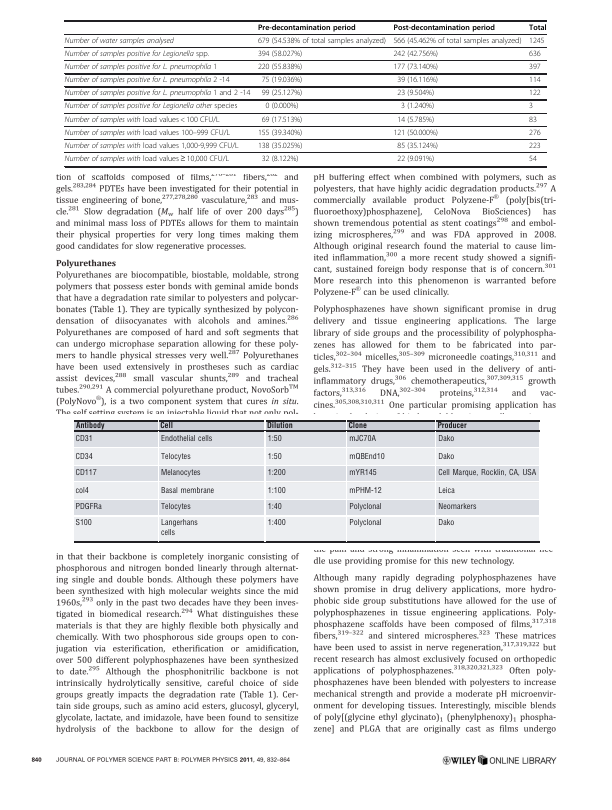borderless: (64, 19, 546, 166), (74, 419, 540, 541)
cell: (64, 141, 240, 151), (64, 89, 251, 98), (64, 128, 231, 138), (64, 75, 230, 85), (64, 154, 230, 164), (64, 102, 238, 111), (64, 62, 218, 72), (64, 49, 210, 59), (64, 115, 220, 124), (257, 36, 387, 46), (392, 36, 522, 46), (64, 36, 175, 46), (437, 468, 537, 478), (392, 23, 496, 32), (257, 23, 356, 32), (159, 518, 198, 538), (159, 486, 215, 495), (159, 434, 213, 443), (392, 49, 439, 59), (392, 62, 439, 72), (392, 128, 439, 138), (257, 49, 303, 59), (257, 62, 303, 72), (257, 128, 303, 138), (257, 141, 303, 151), (396, 75, 439, 85), (396, 141, 439, 151), (159, 468, 201, 478), (261, 75, 303, 85), (437, 502, 477, 512), (396, 154, 435, 164), (261, 154, 299, 164), (261, 89, 303, 98), (261, 115, 303, 124), (396, 89, 435, 98), (396, 115, 435, 124), (348, 502, 382, 512), (348, 518, 382, 528), (348, 452, 385, 461), (159, 502, 191, 512), (264, 102, 299, 111), (400, 102, 435, 111), (74, 421, 105, 431), (436, 421, 467, 431), (348, 486, 382, 495), (348, 468, 377, 478), (159, 452, 191, 461), (265, 421, 293, 431), (74, 502, 102, 512), (348, 434, 376, 443), (74, 468, 97, 478), (347, 421, 367, 431), (266, 468, 286, 478), (266, 518, 286, 528), (266, 486, 286, 495), (74, 518, 92, 528), (437, 518, 455, 528), (74, 434, 93, 443), (74, 452, 93, 461), (528, 23, 547, 32), (528, 36, 545, 46), (437, 434, 455, 443), (437, 452, 455, 461), (437, 486, 455, 495), (266, 502, 282, 512), (266, 434, 282, 443), (266, 452, 282, 461), (159, 421, 173, 431), (528, 49, 542, 59), (528, 62, 542, 72), (528, 75, 542, 85), (528, 128, 542, 138), (528, 141, 542, 151), (74, 486, 89, 495), (528, 89, 542, 98), (528, 154, 538, 164), (528, 115, 538, 124), (528, 102, 534, 111)
